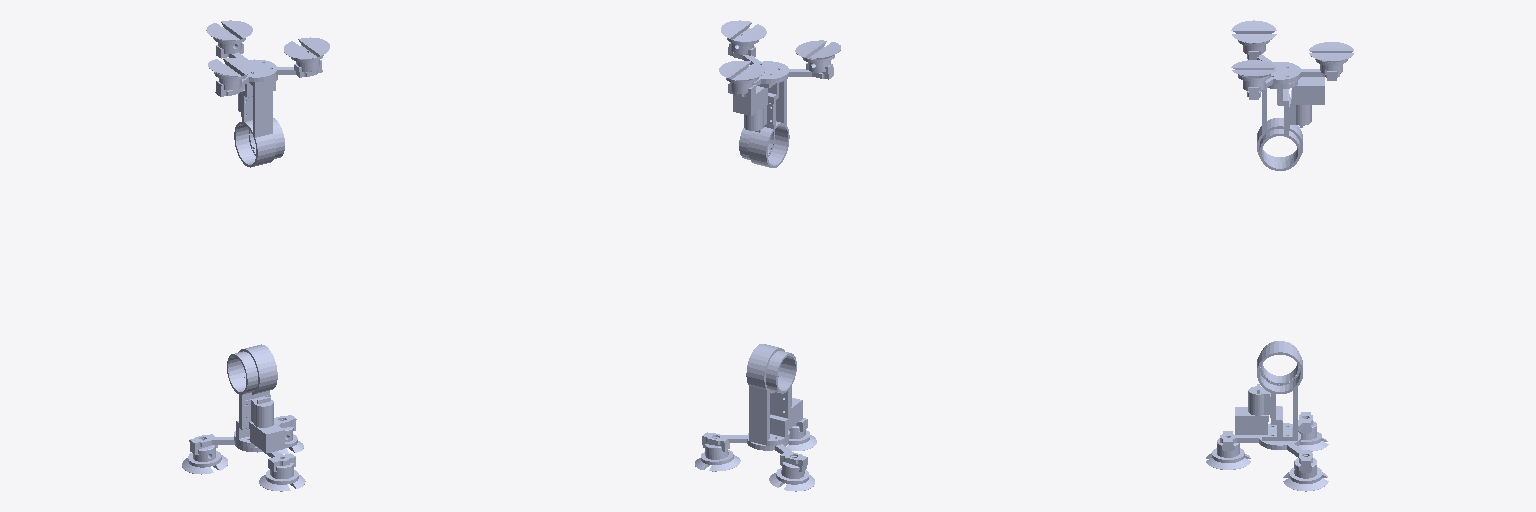
The robot description file, URDF, robot "bigmama0320":
<?xml version="1.0" encoding="utf-8" ?>
<!-- This URDF was automatically created by SolidWorks to URDF Exporter! Originally created by [author] ([email redacted]) 
     Commit Version: 1.6.0-1-g15f4949  Build Version: 1.6.7594.29634
     For more information, please see http://wiki.ros.org/sw_urdf_exporter -->
<robot name="bigmama0320">
    <link name="dummy" />
    <link name="Link_0">
        
<inertial>
            <origin xyz="-0.0037121 -0.0090866 0.031222" rpy="0 0 0" />
            <mass value="0.78659" />
            <inertia ixx="0.0014841" ixy="-1.2946E-05" ixz="1.4236E-05" iyy="0.0014419" iyz="-7.5325E-06" izz="0.0010174" />
        </inertial>

        <visual>
            <origin xyz="0 0 0" rpy="0 0 0" />
            <geometry>
                <mesh filename="package://bigmama0320/meshes/Link_0.STL" />
            </geometry>
            <material name="">
                <color rgba="0.79216 0.81961 0.93333 1" />
            </material>
        </visual>
        <collision>
            <origin xyz="0 0 0" rpy="0 0 0" />
            <geometry>
                <mesh filename="package://bigmama0320/meshes/Link_0.STL" />
            </geometry>
        </collision>
    </link>
    <joint name="dummy_joint" type="fixed">
        <parent link="dummy" />
        <child link="Link_0" />
    </joint>
    <link name="Link_1">
        
<inertial>
            <origin xyz="-6.6613E-16 0.12 0.014813" rpy="0 0 0" />
            <mass value="0.28238" />
            <inertia ixx="0.0027445" ixy="4.4567E-20" ixz="4.0635E-21" iyy="0.00019508" iyz="-5.1486E-20" izz="0.0029159" />
        </inertial>

        <visual>
            <origin xyz="0 0 0" rpy="0 0 0" />
            <geometry>
                <mesh filename="package://bigmama0320/meshes/Link_1.STL" />
            </geometry>
            <material name="">
                <color rgba="0.79216 0.81961 0.93333 1" />
            </material>
        </visual>
        <collision>
            <origin xyz="0 0 0" rpy="0 0 0" />
            <geometry>
                <mesh filename="package://bigmama0320/meshes/Link_1.STL" />
            </geometry>
        </collision>
    </link>
    <joint name="Joint_1" type="revolute">
        <origin xyz="0.022 0 0.155" rpy="1.5708 0 1.5708" />
        <parent link="Link_0" />
        <child link="Link_1" />
        <axis xyz="0 0 -1" />
        <limit lower="-3.14" upper="3.14" effort="100" velocity="0.25" />
    </joint>
    <link name="Link_2">
        
<inertial>
            <origin xyz="1.1102E-16 0.098184 -0.051898" rpy="0 0 0" />
            <mass value="0.34516" />
            <inertia ixx="0.0036332" ixy="3.3675E-18" ixz="-4.7341E-19" iyy="0.00034405" iyz="0.00024115" izz="0.0037914" />
        </inertial>

        <visual>
            <origin xyz="0 0 0" rpy="0 0 0" />
            <geometry>
                <mesh filename="package://bigmama0320/meshes/Link_2.STL" />
            </geometry>
            <material name="">
                <color rgba="0.79216 0.81961 0.93333 1" />
            </material>
        </visual>
        <collision>
            <origin xyz="0 0 0" rpy="0 0 0" />
            <geometry>
                <mesh filename="package://bigmama0320/meshes/Link_2.STL" />
            </geometry>
        </collision>
    </link>
    <joint name="Joint_2" type="revolute">
        <origin xyz="0 0.24 0" rpy="0 0 0" />
        <parent link="Link_1" />
        <child link="Link_2" />
        <axis xyz="0 0 -1" />
        <limit lower="-3.14" upper="3.14" effort="100" velocity="0.25" />
    </joint>
    <link name="Link_3">
        
<inertial>
            <origin xyz="0.018256 0.077688 0.029219" rpy="0 0 0" />
            <mass value="0.40524" />
            <inertia ixx="0.0010067" ixy="-1.0212E-05" ixz="-1.2958E-05" iyy="0.00027741" iyz="1.4235E-05" izz="0.0011025" />
        </inertial>

        <visual>
            <origin xyz="0 0 0" rpy="0 0 0" />
            <geometry>
                <mesh filename="package://bigmama0320/meshes/Link_3.STL" />
            </geometry>
            <material name="">
                <color rgba="0.79216 0.81961 0.93333 1" />
            </material>
        </visual>
        <collision>
            <origin xyz="0 0 0" rpy="0 0 0" />
            <geometry>
                <mesh filename="package://bigmama0320/meshes/Link_3.STL" />
            </geometry>
        </collision>
    </link>
    <joint name="Joint_3" type="revolute">
        <origin xyz="0 0.24 -0.0442" rpy="0 0 0" />
        <parent link="Link_2" />
        <child link="Link_3" />
        <axis xyz="0 0 1" />
        <limit lower="-3.14" upper="3.14" effort="100" velocity="0.25" />
    </joint>
    <link name="Link_4">
        
<inertial>
            <origin xyz="-0.030985 -2.1176E-05 -0.025584" rpy="0 0 0" />
            <mass value="0.29314" />
            <inertia ixx="0.00039725" ixy="1.2499E-08" ixz="-2.474E-06" iyy="0.00034787" iyz="7.2147E-09" izz="0.00069279" />
        </inertial>

        <visual>
            <origin xyz="0 0 0" rpy="0 0 0" />
            <geometry>
                <mesh filename="package://bigmama0320/meshes/Link_4.STL" />
            </geometry>
            <material name="">
                <color rgba="0.79216 0.81961 0.93333 1" />
            </material>
        </visual>
        <collision>
            <origin xyz="0 0 0" rpy="0 0 0" />
            <geometry>
                <mesh filename="package://bigmama0320/meshes/Link_4.STL" />
            </geometry>
        </collision>
    </link>
    <joint name="Joint_4" type="revolute">
        <origin xyz="0 0.145 0.022" rpy="1.5708 0 0" />
        <parent link="Link_3" />
        <child link="Link_4" />
        <axis xyz="0 0 -1" />
        <limit lower="-0.0001" upper="0.0001" effort="0.0001" velocity="0.0001" />
    </joint>
    <link name="Link_forwardsucker">
        
<inertial>
            <origin xyz="0.00021444 -4.3723E-08 -0.00013148" rpy="0 0 0" />
            <mass value="0.088134" />
            <inertia ixx="3.7615E-05" ixy="4.0865E-11" ixz="-1.9138E-07" iyy="3.3338E-05" iyz="-3.6828E-11" izz="4.7149E-05" />
        </inertial>

        <visual>
            <origin xyz="0 0 0" rpy="0 0 0" />
            <geometry>
                <mesh filename="package://bigmama0320/meshes/Link_forwardsucker.STL" />
            </geometry>
            <material name="">
                <color rgba="0.79216 0.81961 0.93333 1" />
            </material>
        </visual>
        <collision>
            <origin xyz="0 0 0" rpy="0 0 0" />
            <geometry>
                <mesh filename="package://bigmama0320/meshes/Link_forwardsucker.STL" />
            </geometry>
        </collision>
    </link>
    <joint name="Joint_forwardsucker" type="revolute">
        <origin xyz="0.1 0 -0.035" rpy="0 0 0" />
        <parent link="Link_4" />
        <child link="Link_forwardsucker" />
        <axis xyz="0 0 -1" />
        <limit lower="-0.0001" upper="0.0001" effort="0.0001" velocity="0.0001" />
    </joint>
    <link name="Link_innerfinger">
        
<inertial>
            <origin xyz="0.0005 -3.9191E-14 0.0037772" rpy="0 0 0" />
            <mass value="0.0006032" />
            <inertia ixx="2.9694E-07" ixy="-1.8314E-24" ixz="1.0649E-25" iyy="3.2374E-09" iyz="-1.2144E-22" izz="2.938E-07" />
        </inertial>

        <visual>
            <origin xyz="0 0 0" rpy="0 0 0" />
            <geometry>
                <mesh filename="package://bigmama0320/meshes/Link_innerfinger.STL" />
            </geometry>
            <material name="">
                <color rgba="0.79216 0.81961 0.93333 1" />
            </material>
        </visual>
        <collision>
            <origin xyz="0 0 0" rpy="0 0 0" />
            <geometry>
                <mesh filename="package://bigmama0320/meshes/Link_innerfinger.STL" />
            </geometry>
        </collision>
    </link>
    <joint name="Joint_innerfinger" type="prismatic">
        <origin xyz="0 -0.006 -0.015" rpy="0 0 1.5708" />
        <parent link="Link_forwardsucker" />
        <child link="Link_innerfinger" />
        <axis xyz="-1 0 0" />
        <limit lower="-0.005" upper="0.005" effort="50" velocity="0.005" />
    </joint>
    <link name="Link_exterfinger">
        
<inertial>
            <origin xyz="-0.0005 -4.4742E-14 0.0037772" rpy="0 0 0" />
            <mass value="0.0006032" />
            <inertia ixx="2.9694E-07" ixy="1.5114E-24" ixz="-1.9495E-25" iyy="3.2374E-09" iyz="-1.6196E-23" izz="2.938E-07" />
        </inertial>

        <visual>
            <origin xyz="0 0 0" rpy="0 0 0" />
            <geometry>
                <mesh filename="package://bigmama0320/meshes/Link_exterfinger.STL" />
            </geometry>
            <material name="">
                <color rgba="0.79216 0.81961 0.93333 1" />
            </material>
        </visual>
        <collision>
            <origin xyz="0 0 0" rpy="0 0 0" />
            <geometry>
                <mesh filename="package://bigmama0320/meshes/Link_exterfinger.STL" />
            </geometry>
        </collision>
    </link>
    <joint name="Joint_exterfinger" type="prismatic">
        <origin xyz="0 0.006 -0.015" rpy="0 0 1.5708" />
        <parent link="Link_forwardsucker" />
        <child link="Link_exterfinger" />
        <axis xyz="-1 0 0" />
        <limit lower="-0.005" upper="0.005" effort="50" velocity="0.005" />
    </joint>
    
<transmission name="trans_Joint_1">
        <type>transmission_interface/SimpleTransmission</type>
        <joint name="Joint_1">
            <hardwareInterface>hardware_interface/PositionJointInterface</hardwareInterface>
        </joint>
        <actuator name="Joint_1_motor">
            <hardwareInterface>hardware_interface/PositionJointInterface</hardwareInterface>
            <mechanicalReduction>1</mechanicalReduction>
        </actuator>
    </transmission>
    <transmission name="trans_Joint_2">
        <type>transmission_interface/SimpleTransmission</type>
        <joint name="Joint_2">
            <hardwareInterface>hardware_interface/PositionJointInterface</hardwareInterface>
        </joint>
        <actuator name="Joint_2_motor">
            <hardwareInterface>hardware_interface/PositionJointInterface</hardwareInterface>
            <mechanicalReduction>1</mechanicalReduction>
        </actuator>
    </transmission>
    <transmission name="trans_Joint_3">
        <type>transmission_interface/SimpleTransmission</type>
        <joint name="Joint_3">
            <hardwareInterface>hardware_interface/PositionJointInterface</hardwareInterface>
        </joint>
        <actuator name="Joint_3_motor">
            <hardwareInterface>hardware_interface/PositionJointInterface</hardwareInterface>
            <mechanicalReduction>1</mechanicalReduction>
        </actuator>
    </transmission>
    <transmission name="trans_Joint_4">
        <type>transmission_interface/SimpleTransmission</type>
        <joint name="Joint_4">
            <hardwareInterface>hardware_interface/PositionJointInterface</hardwareInterface>
        </joint>
        <actuator name="Joint_4_motor">
            <hardwareInterface>hardware_interface/PositionJointInterface</hardwareInterface>
            <mechanicalReduction>1</mechanicalReduction>
        </actuator>
    </transmission>
    <transmission name="trans_Joint_forwardsucker">
        <type>transmission_interface/SimpleTransmission</type>
        <joint name="Joint_forwardsucker">
            <hardwareInterface>hardware_interface/PositionJointInterface</hardwareInterface>
        </joint>
        <actuator name="Joint_forwardsucker_motor">
            <hardwareInterface>hardware_interface/PositionJointInterface</hardwareInterface>
            <mechanicalReduction>1</mechanicalReduction>
        </actuator>
    </transmission>
    <transmission name="trans_Joint_innerfinger">
        <type>transmission_interface/SimpleTransmission</type>
        <joint name="Joint_innerfinger">
            <hardwareInterface>hardware_interface/PositionJointInterface</hardwareInterface>
        </joint>
        <actuator name="Joint_innerfinger_motor">
            <hardwareInterface>hardware_interface/PositionJointInterface</hardwareInterface>
            <mechanicalReduction>1</mechanicalReduction>
        </actuator>
    </transmission>
    <transmission name="trans_Joint_exterfinger">
        <type>transmission_interface/SimpleTransmission</type>
        <joint name="Joint_exterfinger">
            <hardwareInterface>hardware_interface/PositionJointInterface</hardwareInterface>
        </joint>
        <actuator name="Joint_exterfinger_motor">
            <hardwareInterface>hardware_interface/PositionJointInterface</hardwareInterface>
            <mechanicalReduction>1</mechanicalReduction>
        </actuator>
    </transmission>
    <gazebo reference="Link_4">
        <material>Gazebo/Yellow</material>
        <mu1>0.9</mu1>
        <mu2>0.9</mu2>
        <fdir1>1 0 0</fdir1>
    </gazebo>
    <gazebo reference="Link_forwardsucker">
        <material>Gazebo/Orange</material>
        <mu1>5</mu1>
        <mu2>5</mu2>
        <fdir1>1 0 0</fdir1>
    </gazebo>
    <gazebo reference="Link_innerfinger">
        <material>Gazebo/Red</material>
        <mu1>0.5</mu1>
        <mu2>0.5</mu2>
        <fdir1>1 0 0</fdir1>        
    </gazebo>
    <gazebo reference="Link_exterfinger">
        <material>Gazebo/Red</material>
        <mu1>0.5</mu1>
        <mu2>0.5</mu2>
        <fdir1>1 0 0</fdir1>
    </gazebo>
    <gazebo reference="Link_0">
        <material>Gazebo/Green</material>
        <mu1>0.9</mu1>
        <mu2>0.9</mu2>
        <fdir1>1 0 0</fdir1>
    </gazebo>
    <gazebo>
        <plugin name="gazebo_ros_control" filename="libgazebo_ros_control.so">
            <robotNamespace>/</robotNamespace>
        </plugin>
    </gazebo>
</robot>

--- What the picture shows (computed from the rendered views, not written in the file) ---
3 views of the same robot in one strip: view 1: azimuth 30°, elevation 25°; view 2: azimuth 150°, elevation 25°; view 3: azimuth 270°, elevation 25° (orthographic).
Robot: bigmama0320 — 9 links, 8 joints (5 revolute, 2 prismatic, 1 fixed); root link dummy; default pose: all joints at 0.
Visible links, largest first — view 1: Link_0, Link_4, Link_3, Link_forwardsucker; view 2: Link_0, Link_3, Link_4, Link_forwardsucker; view 3: Link_0, Link_3, Link_4, Link_forwardsucker.
Boxes of the visible links, bbox=[...] form: Link_0: bbox=[182, 344, 305, 491]; Link_4: bbox=[208, 37, 329, 96]; Link_3: bbox=[234, 75, 284, 167]; Link_forwardsucker: bbox=[206, 20, 252, 53]; Link_0: bbox=[695, 344, 816, 491]; Link_3: bbox=[733, 80, 789, 167]; Link_4: bbox=[721, 20, 840, 98]; Link_forwardsucker: bbox=[719, 61, 764, 93]; Link_0: bbox=[1206, 341, 1328, 491]; Link_3: bbox=[1257, 77, 1324, 170]; Link_4: bbox=[1231, 20, 1339, 99]; Link_forwardsucker: bbox=[1309, 42, 1353, 74].
Bounding box of the posed robot: 0.2553 × 0.2882 × 0.8854 m (x, y, z).
6 mesh visuals loaded from 8 distinct referenced files (6 binary STL); not drawn: 2 (reference not matched to a file when rendering).
